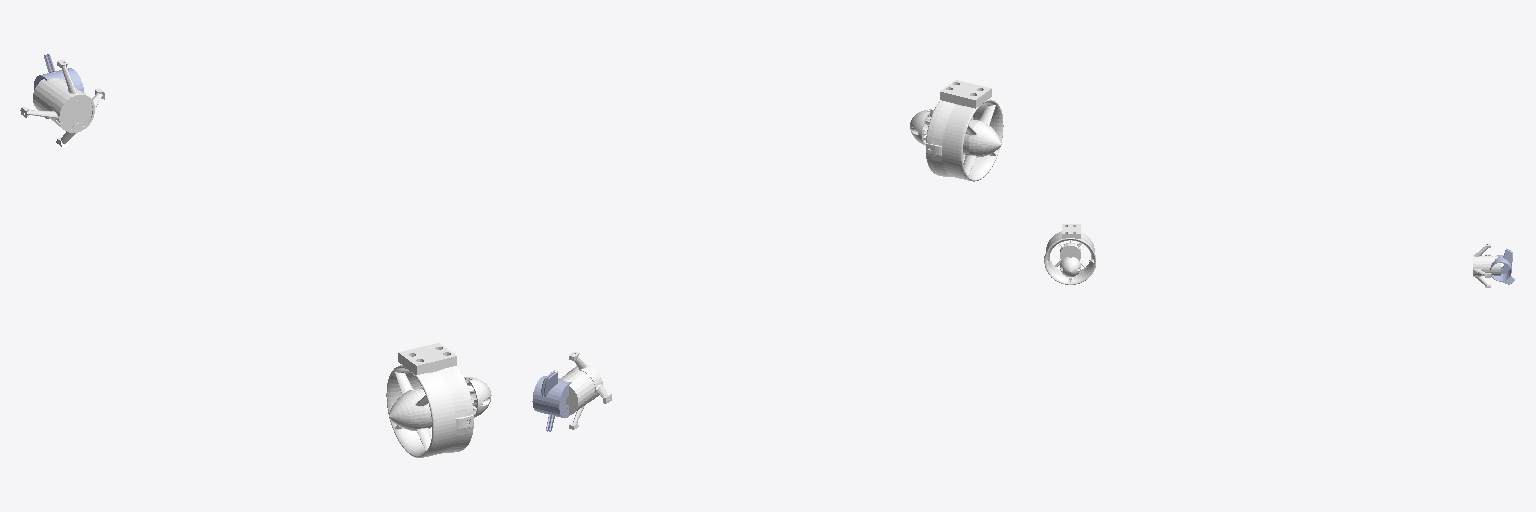
URDF robot description (boat version 5urdf):
<?xml version="1.0" encoding="utf-8"?>
<!-- This URDF was automatically created by SolidWorks to URDF Exporter! Originally created by [author] ([email redacted]) 
     Commit Version: 1.6.0-4-g7f85cfe  Build Version: 1.6.7995.38578
     For more information, please see http://wiki.ros.org/sw_urdf_exporter -->
<robot
  name="boat version 5urdf">
  <link
    name="base_boat">
    <inertial>
      <origin
        xyz="-0.0129680077843366 1.25727554650679E-06 -0.176841515724912"
        rpy="0 0 0" />
      <mass
        value="13.5985858196954" />
      <inertia
        ixx="0.12499527878428"
        ixy="8.16960124483469E-07"
        ixz="-0.00148374605527536"
        iyy="0.0961950105001574"
        iyz="8.2799482679275E-06"
        izz="0.136442575579436" />
    </inertial>
    <visual>
      <origin
        xyz="0 0 0"
        rpy="0 0 0" />
      <geometry>
        <mesh
          filename="package://boat version 5urdf/meshes/base_boat.STL" />
      </geometry>
      <material
        name="">
        <color
          rgba="1 1 1 1" />
      </material>
    </visual>
    <collision>
      <origin
        xyz="0 0 0"
        rpy="0 0 0" />
      <geometry>
        <mesh
          filename="package://boat version 5urdf/meshes/base_boat.STL" />
      </geometry>
    </collision>
  </link>
  <link
    name="axe_gauche">
    <inertial>
      <origin
        xyz="1.2775E-06 -4.8777E-06 0.01649"
        rpy="0 0 0" />
      <mass
        value="0.068101" />
      <inertia
        ixx="2.3224E-05"
        ixy="-1.6786E-09"
        ixz="-1.9806E-09"
        iyy="2.3248E-05"
        iyz="7.4828E-09"
        izz="1.7239E-05" />
    </inertial>
    <visual>
      <origin
        xyz="0 0 0"
        rpy="0 0 0" />
      <geometry>
        <mesh
          filename="package://boat version 5urdf/meshes/axe_gauche.STL" />
      </geometry>
      <material
        name="">
        <color
          rgba="1 1 1 1" />
      </material>
    </visual>
    <collision>
      <origin
        xyz="0 0 0"
        rpy="0 0 0" />
      <geometry>
        <mesh
          filename="package://boat version 5urdf/meshes/axe_gauche.STL" />
      </geometry>
    </collision>
  </link>
  <joint
    name="axe_gauche_joint"
    type="fixed">
    <origin
      xyz="-0.26329 0.39873 -0.3785"
      rpy="-1.5708 0 -1.5708" />
    <parent
      link="base_boat" />
    <child
      link="axe_gauche" />
    <axis
      xyz="0 0 0" />
  </joint>
  <link
    name="fan_gauche">
    <inertial>
      <origin
        xyz="0.012188 -2.0306E-08 3.2212E-08"
        rpy="0 0 0" />
      <mass
        value="0.0079579" />
      <inertia
        ixx="3.7271E-06"
        ixy="7.2525E-13"
        ixz="-1.4425E-13"
        iyy="2.3932E-06"
        iyz="-2.0319E-10"
        izz="2.3946E-06" />
    </inertial>
    <visual>
      <origin
        xyz="0 0 0"
        rpy="0 0 0" />
      <geometry>
        <mesh
          filename="package://boat version 5urdf/meshes/fan_gauche.STL" />
      </geometry>
      <material
        name="">
        <color
          rgba="0.79216 0.81961 0.93333 1" />
      </material>
    </visual>
    <collision>
      <origin
        xyz="0 0 0"
        rpy="0 0 0" />
      <geometry>
        <mesh
          filename="package://boat version 5urdf/meshes/fan_gauche.STL" />
      </geometry>
    </collision>
  </link>
  <joint
    name="fan_gauche_joint"
    type="continuous">
    <origin
      xyz="0 0 -0.0069715"
      rpy="1.5708 -1.5708 0" />
    <parent
      link="axe_gauche" />
    <child
      link="fan_gauche" />
    <axis
      xyz="1 0 0" />
  </joint>
  <link
    name="axe_droite">
    <inertial>
      <origin
        xyz="1.27735965964326E-06 -4.87801423292022E-06 0.0164902268129701"
        rpy="0 0 0" />
      <mass
        value="0.0681006960211184" />
      <inertia
        ixx="2.32241590930712E-05"
        ixy="-1.67850416577008E-09"
        ixz="-1.98067451231707E-09"
        iyy="2.32478036569559E-05"
        iyz="7.48276057501103E-09"
        izz="1.72388173834412E-05" />
    </inertial>
    <visual>
      <origin
        xyz="0 0 0"
        rpy="0 0 0" />
      <geometry>
        <mesh
          filename="package://boat version 5urdf/meshes/axe_droite.STL" />
      </geometry>
      <material
        name="">
        <color
          rgba="1 1 1 1" />
      </material>
    </visual>
    <collision>
      <origin
        xyz="0 0 0"
        rpy="0 0 0" />
      <geometry>
        <mesh
          filename="package://boat version 5urdf/meshes/axe_droite.STL" />
      </geometry>
    </collision>
  </link>
  <joint
    name="axe_droite_joint"
    type="fixed">
    <origin
      xyz="-0.26329 -0.40127 -0.3785"
      rpy="-1.5708 0 -1.5708" />
    <parent
      link="base_boat" />
    <child
      link="axe_droite" />
    <axis
      xyz="0 0 0" />
  </joint>
  <link
    name="fan_droite">
    <inertial>
      <origin
        xyz="0.012188 -0.8 3.2212E-08"
        rpy="0 0 0" />
      <mass
        value="0.0079579" />
      <inertia
        ixx="3.7271E-06"
        ixy="7.2525E-13"
        ixz="-1.4425E-13"
        iyy="2.3932E-06"
        iyz="-2.0319E-10"
        izz="2.3946E-06" />
    </inertial>
    <visual>
      <origin
        xyz="0 0 0"
        rpy="0 0 0" />
      <geometry>
        <mesh
          filename="package://boat version 5urdf/meshes/fan_droite.STL" />
      </geometry>
      <material
        name="">
        <color
          rgba="0.79216 0.81961 0.93333 1" />
      </material>
    </visual>
    <collision>
      <origin
        xyz="0 0 0"
        rpy="0 0 0" />
      <geometry>
        <mesh
          filename="package://boat version 5urdf/meshes/fan_droite.STL" />
      </geometry>
    </collision>
  </link>
  <joint
    name="fan_droite_joint"
    type="continuous">
    <origin
      xyz="-0.8 0 -0.0069715"
      rpy="1.5708 -1.5708 0" />
    <parent
      link="axe_droite" />
    <child
      link="fan_droite" />
    <axis
      xyz="1 0 0" />
  </joint>
</robot>

--- Render facts (derived) ---
3 views of the same robot in one strip: view 1: azimuth 30°, elevation 25°; view 2: azimuth 150°, elevation 25°; view 3: azimuth 270°, elevation 25° (orthographic).
Model boat version 5urdf with 5 links and 4 joints (2 continuous, 2 fixed), rooted at base_boat, posed every joint at zero.
Links seen in each view (by area): view 1: base_boat, axe_gauche; view 2: base_boat, axe_gauche, fan_droite, fan_gauche; view 3: base_boat, axe_gauche.
Link boxes in pixels (x1,y1,x2,y2): base_boat: (386,343,491,457); axe_gauche: (20,59,104,146); base_boat: (910,80,1003,181); axe_gauche: (537,352,611,429); fan_droite: (535,371,571,431); fan_gauche: (532,370,565,431); base_boat: (1044,224,1095,284); axe_gauche: (1473,244,1500,287).
Size in the robot's own frame: 0.129 by 0.8754 by 0.1043 metres.
4 mesh visuals loaded from 5 distinct referenced files (4 binary STL); not drawn: 1 (reference not matched to a file when rendering).